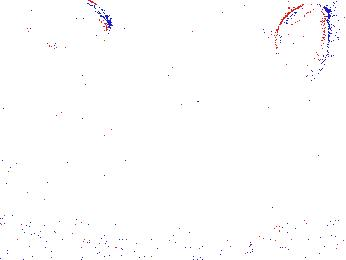moon jellyfish: (236, 31, 311, 109), (167, 32, 237, 105), (25, 1, 111, 51), (275, 3, 331, 77), (1, 4, 37, 54)
